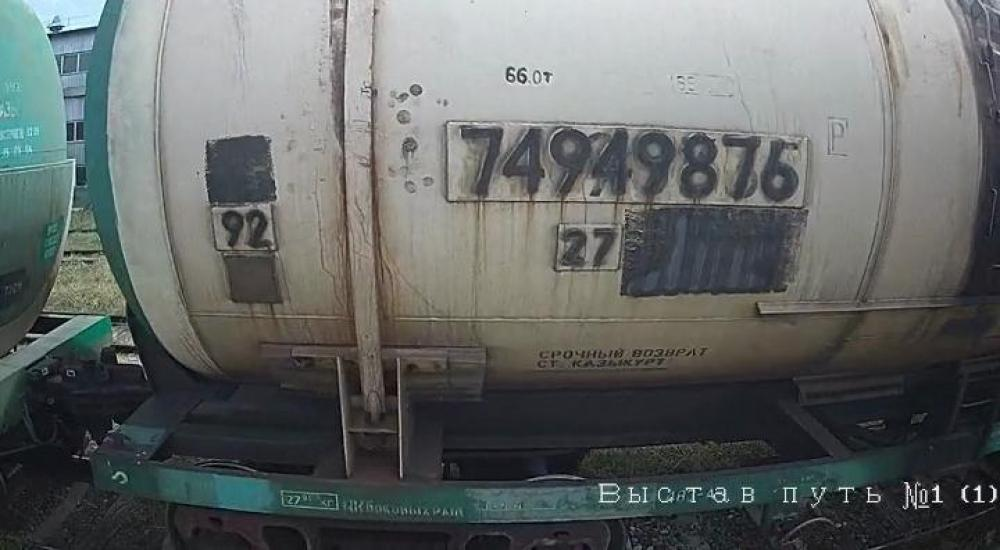Wagon-number: (456, 124, 800, 205)
